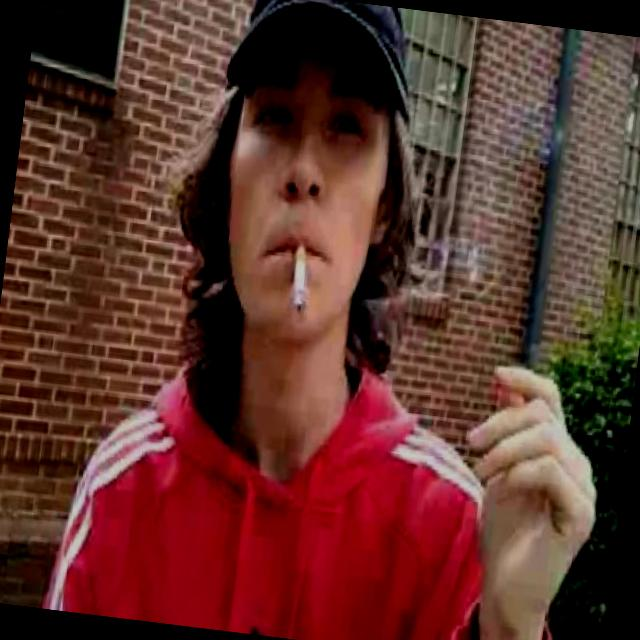cigarette: (273, 214, 328, 328)
